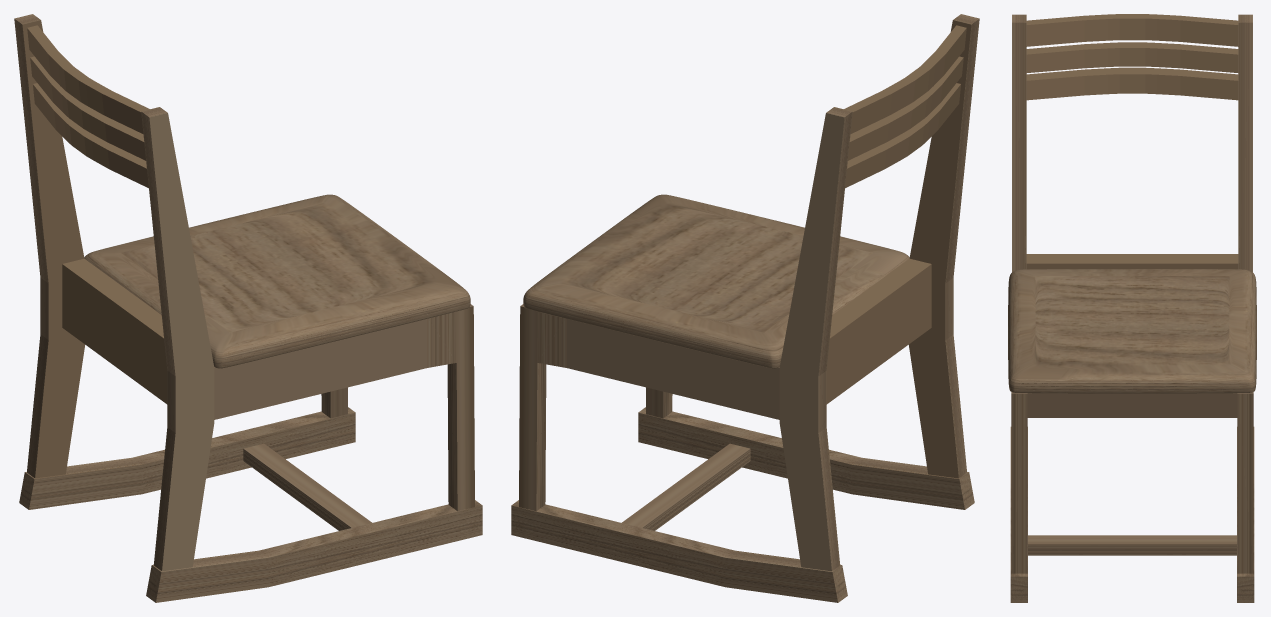
File: Chair.glb
3 views of the same model, side by side, from view 1: azimuth 30°, elevation 25°; view 2: azimuth 150°, elevation 25°; view 3: azimuth 270°, elevation 25° (orthographic). The views are drawn at different scales.
Parts seen in each view (by area): view 1: Cube.001; view 2: Cube.001; view 3: Cube.001.
Part boxes in pixels (left/top/right/bottom): Cube.001: left=14, top=14, right=482, bottom=602; Cube.001: left=511, top=14, right=979, bottom=602; Cube.001: left=1008, top=14, right=1256, bottom=602.
Size of the model in its own units: 0.6088 by 0.8445 by 0.4293.
Materials: 1 (1 with a texture image).
